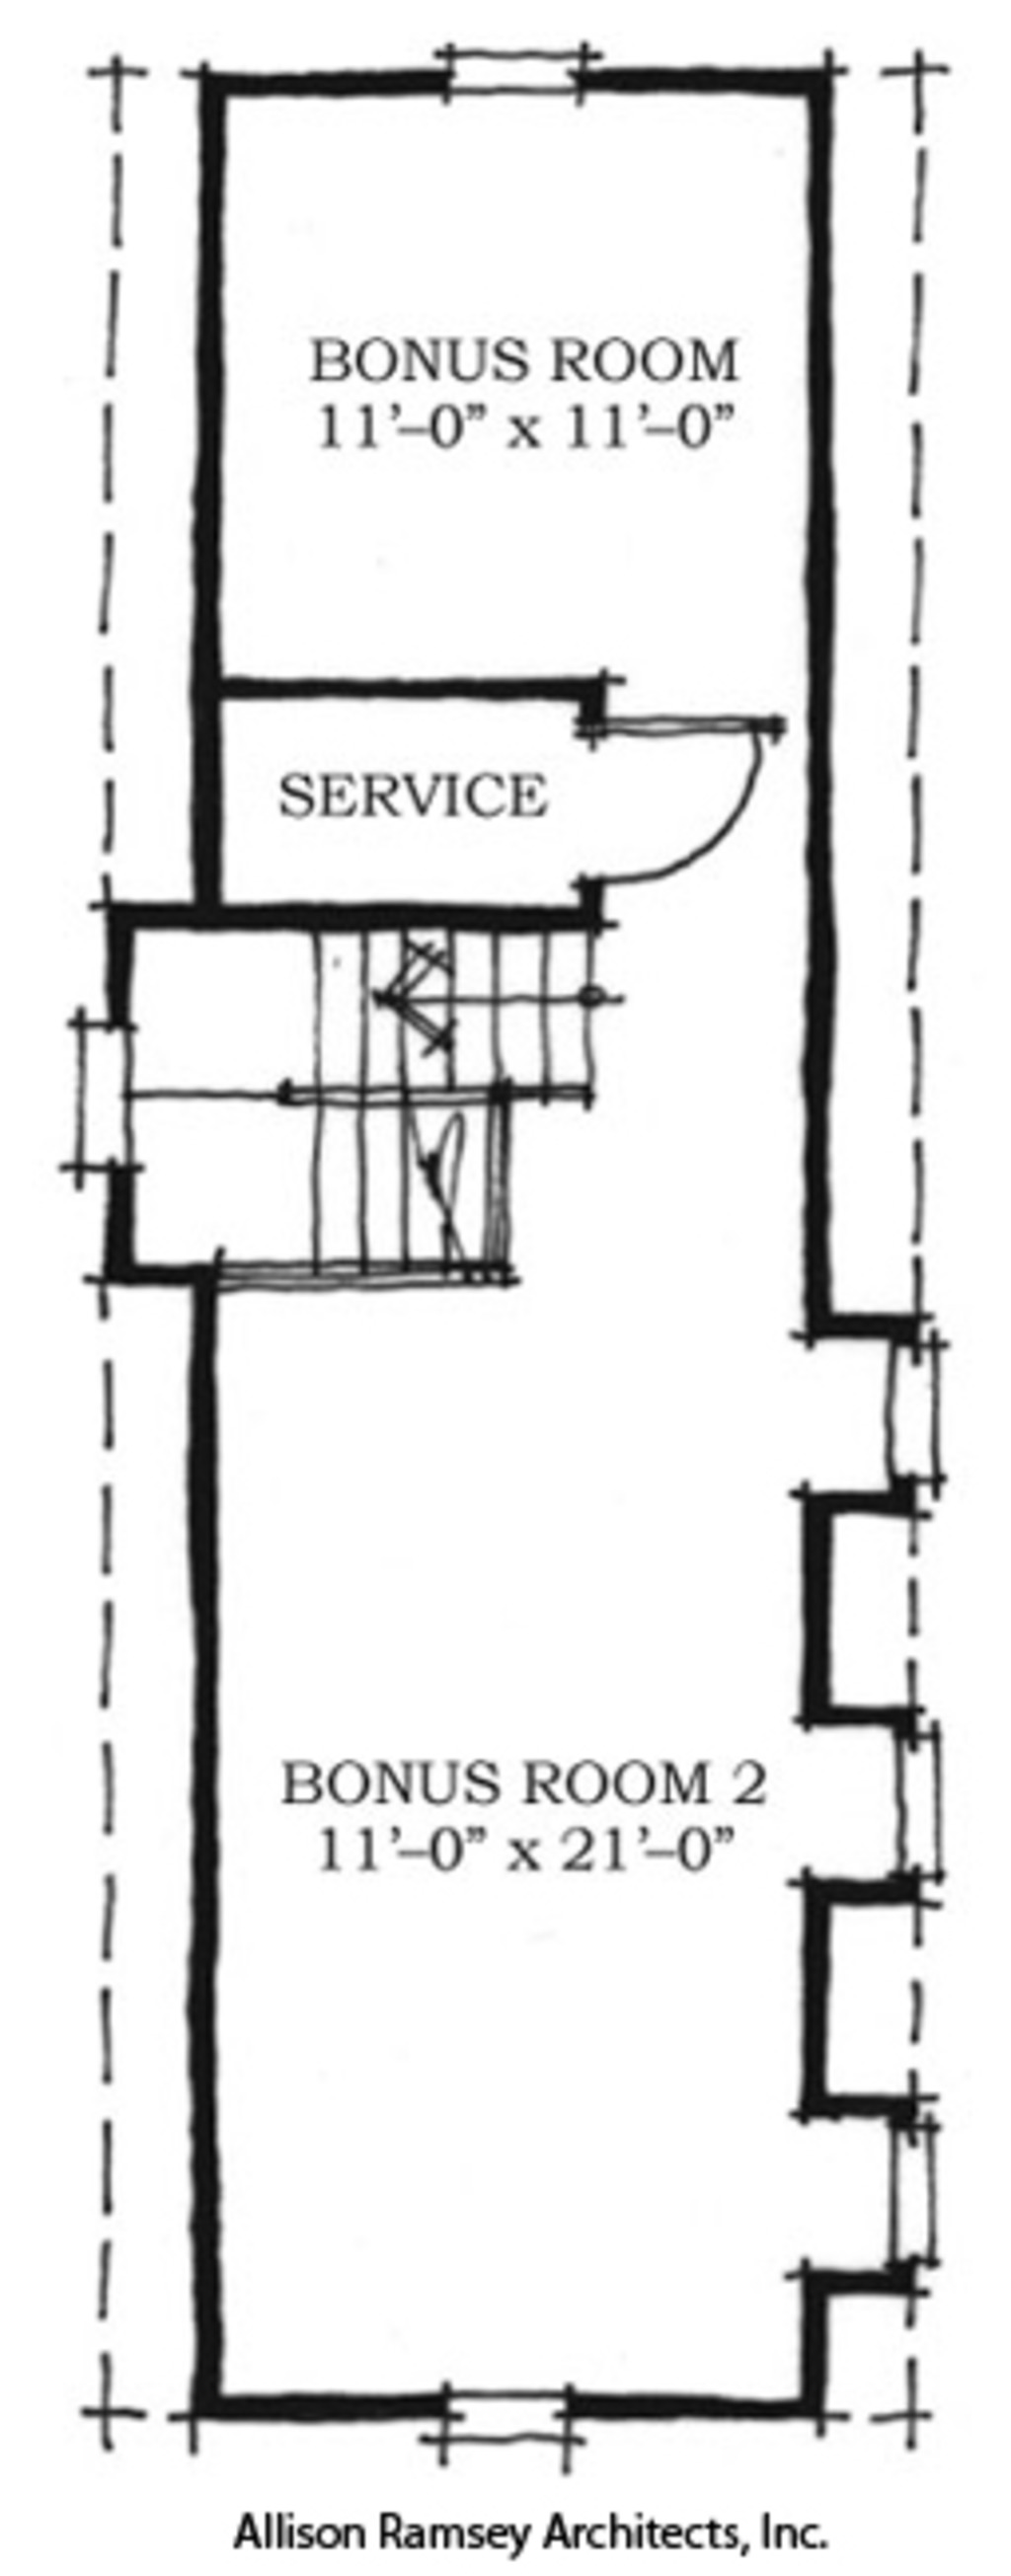door: (589, 706, 774, 882)
stairs: (105, 912, 613, 1288)
